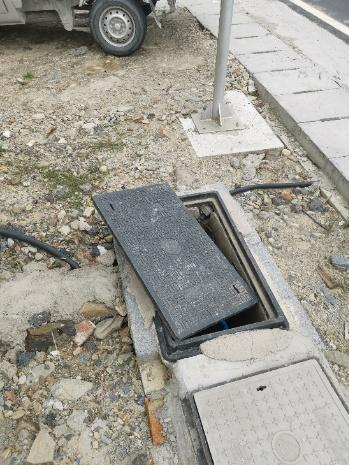wellcover: (92, 179, 304, 353), (190, 355, 349, 465)
